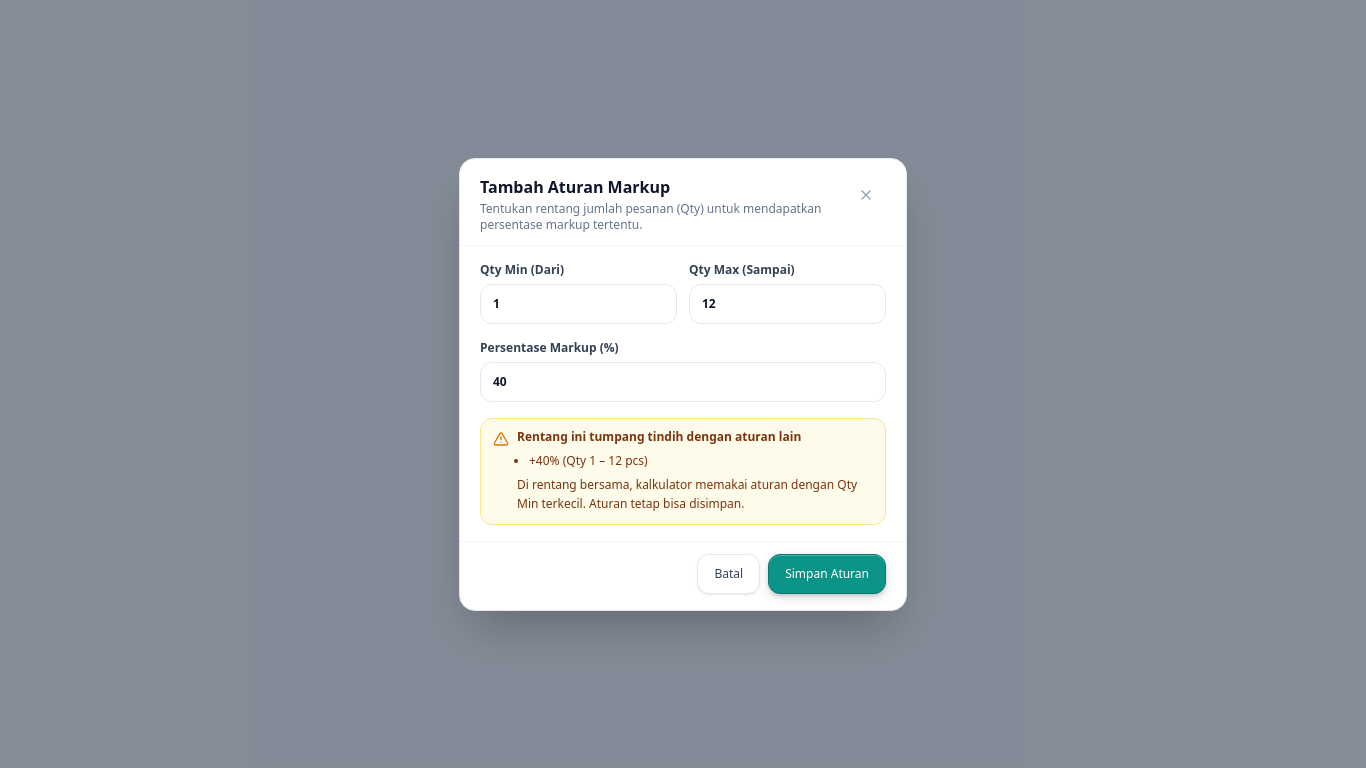
Test: MarkupDialog › Qty Min yang tidak lebih kecil dari Qty Max memblokir simpan
Replace the text in the number field labelled "Qty Min (Dari)" with "12" at coordinates (578, 304), box [480,284,677,324]
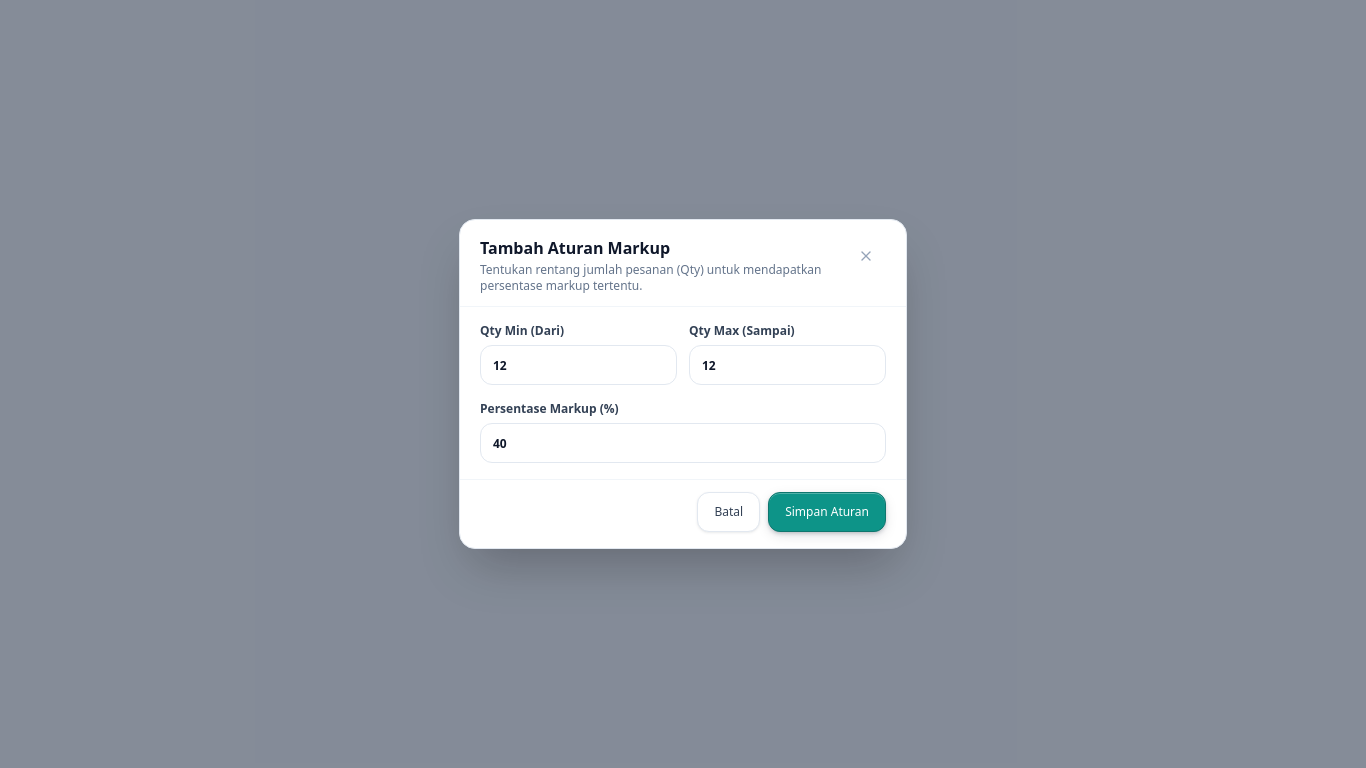
Click the button "Simpan Aturan" at coordinates (827, 512), box [768,492,886,532]
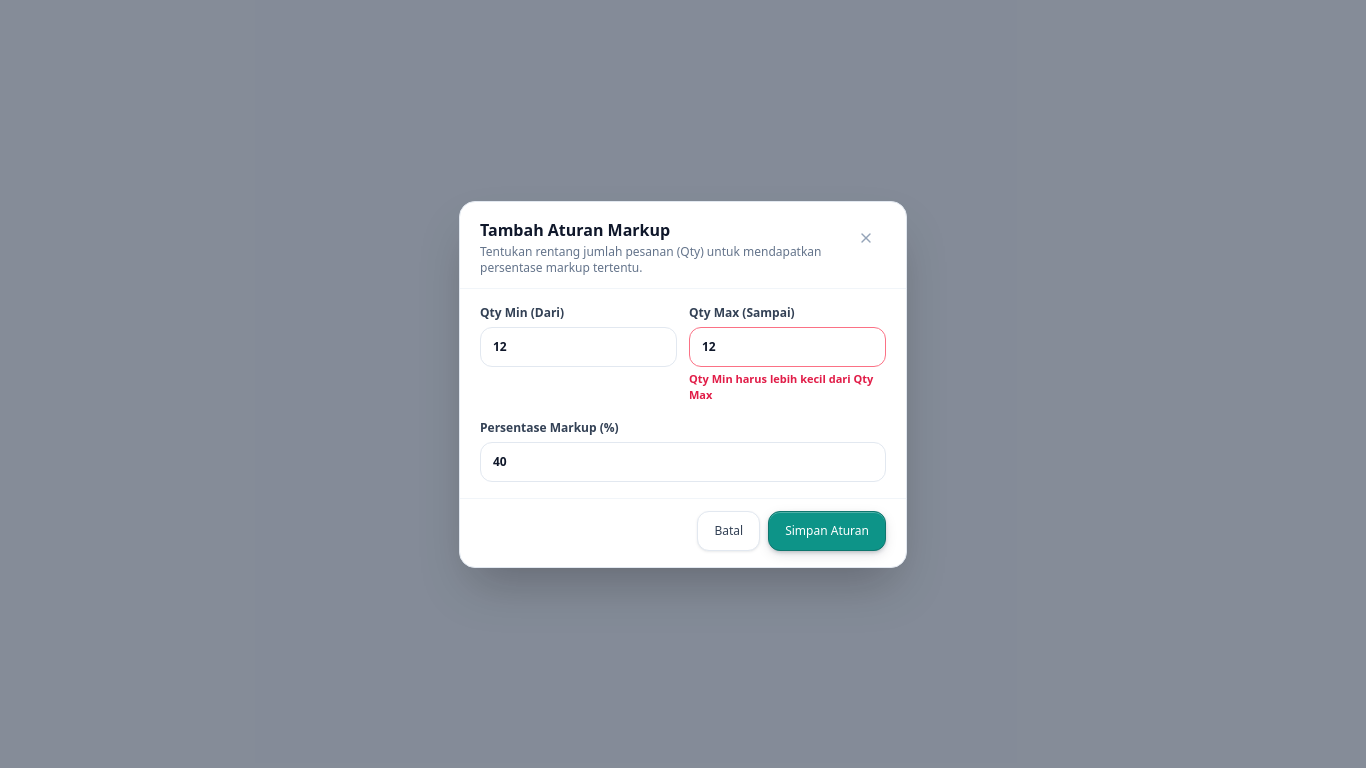
Result: the text "Qty Min harus lebih kecil dari Qty Max" is shown at [689,370,886,404]
